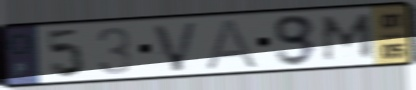3: (95, 25, 133, 76)
5: (43, 26, 87, 80)
9: (272, 12, 320, 68)
A: (203, 17, 261, 72)
M: (321, 12, 376, 64)
V: (149, 19, 202, 74)
